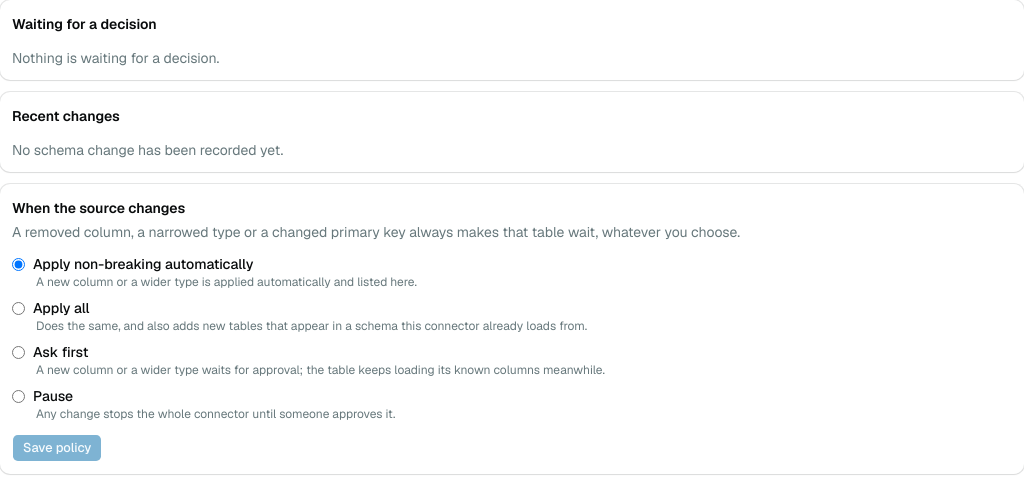
Test case: ConnectorSchemaChangesPanel › shows the API's message when saving the policy is refused with a 403
Click the radio button labelled "Pause".
click(18, 396)  # box [12,390,25,402]
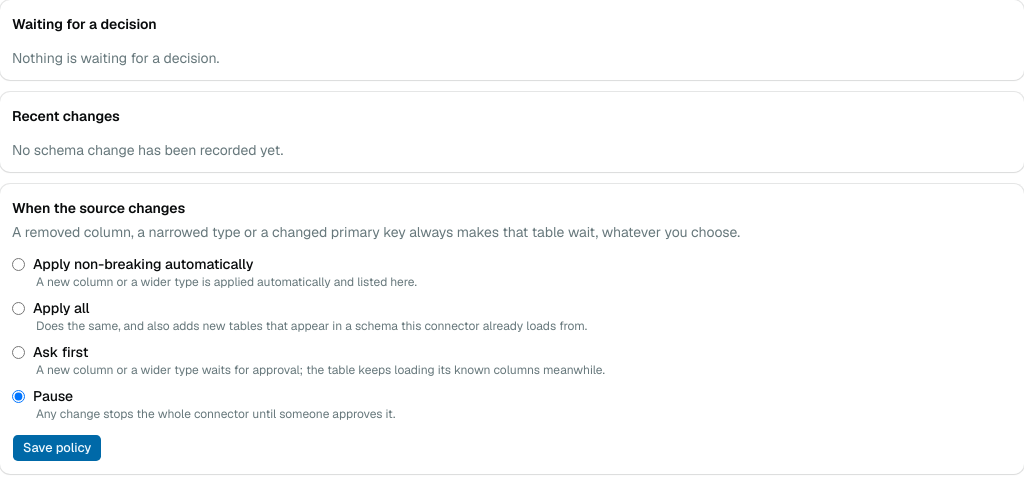
Click the button "Save policy".
click(57, 448)  # box [12,434,102,462]
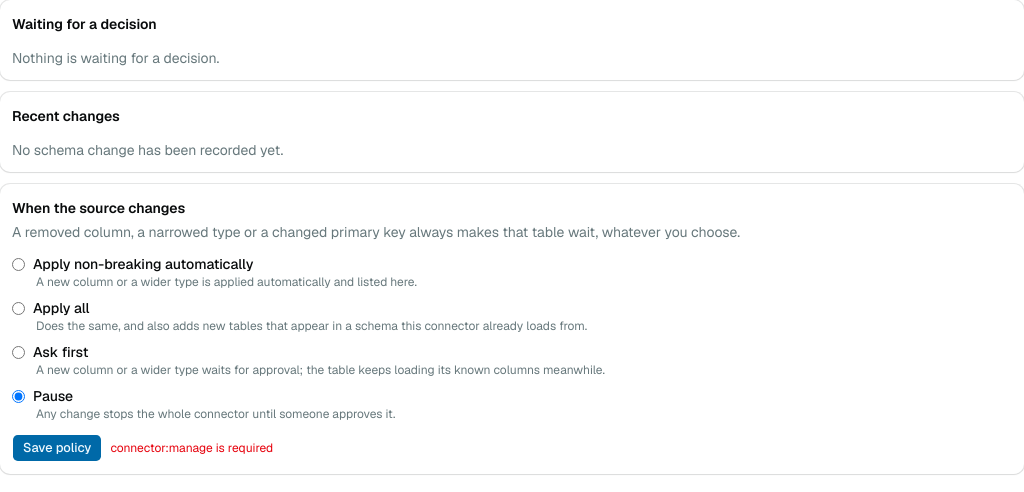
Now the message reads "connector:manage is required", box [110,440,273,456]
